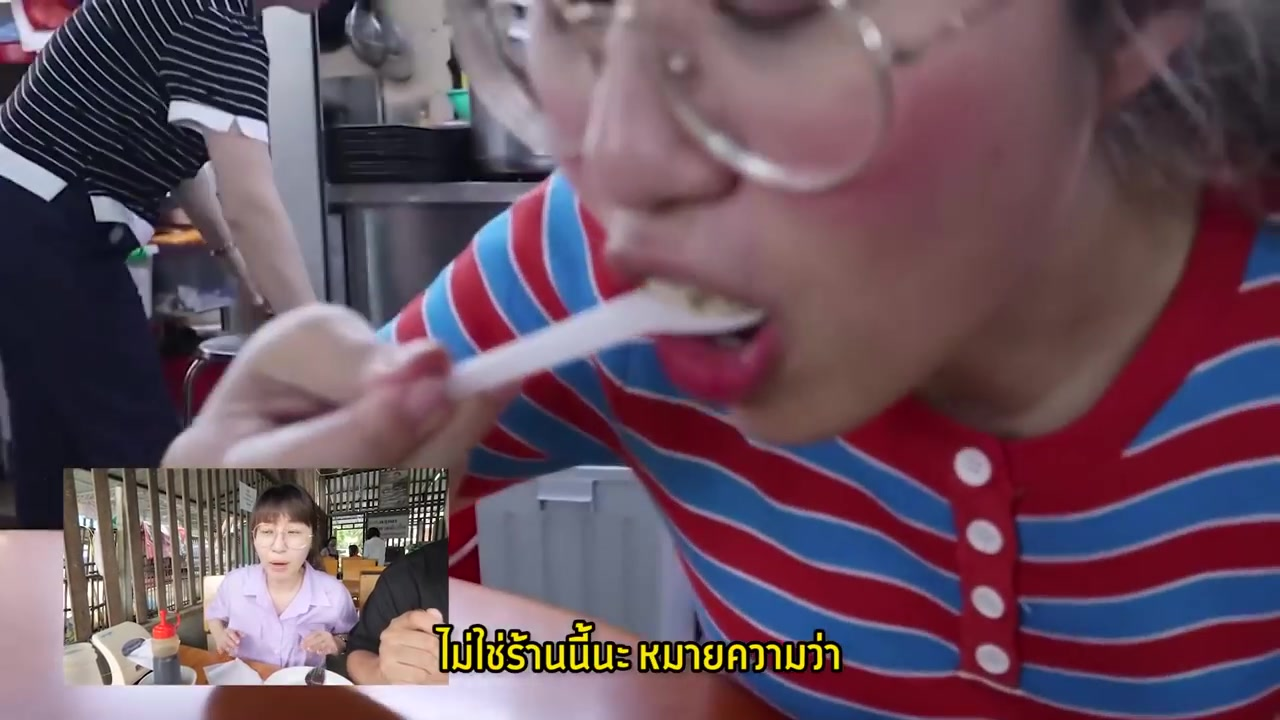text-label: (430, 618, 849, 676)
